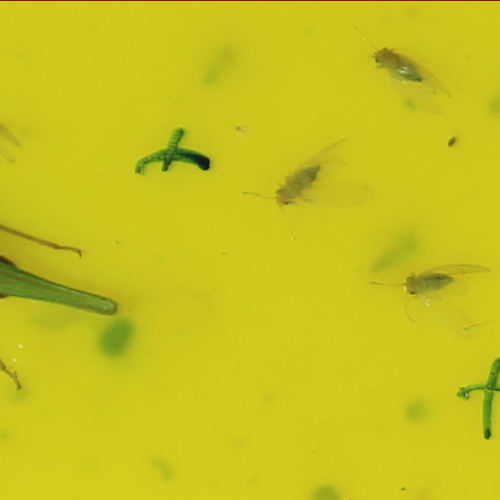psylla: (370, 43, 428, 85), (274, 163, 326, 209), (401, 270, 458, 300)
